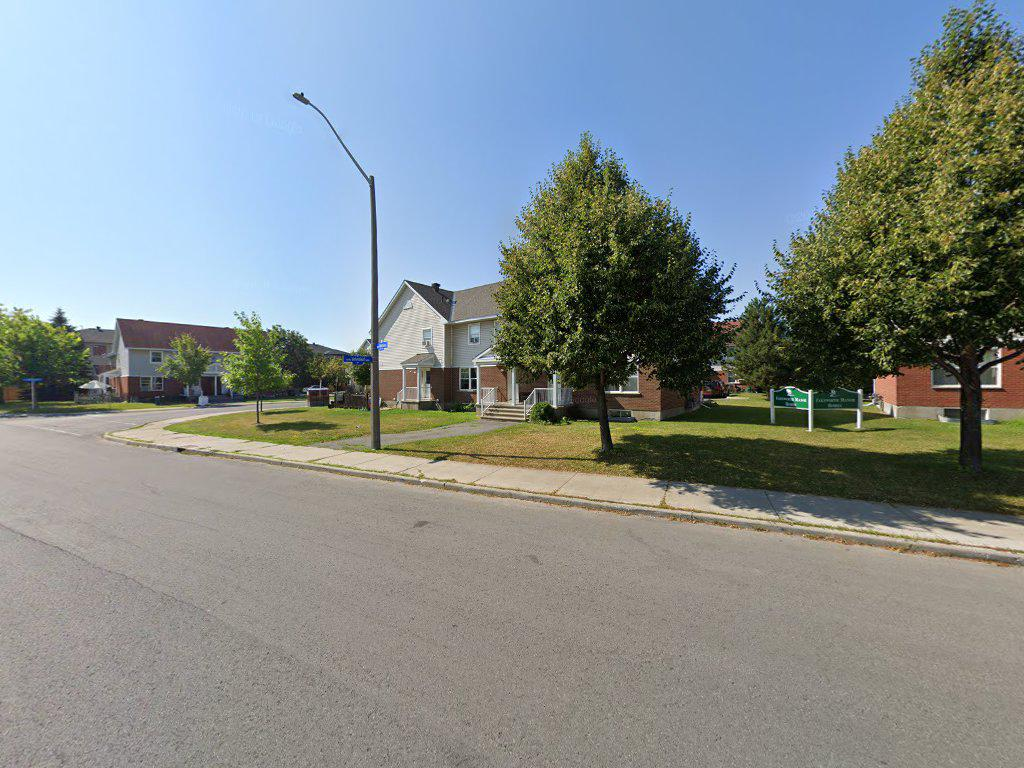trunk: (954, 348, 989, 478), (588, 373, 618, 461)
